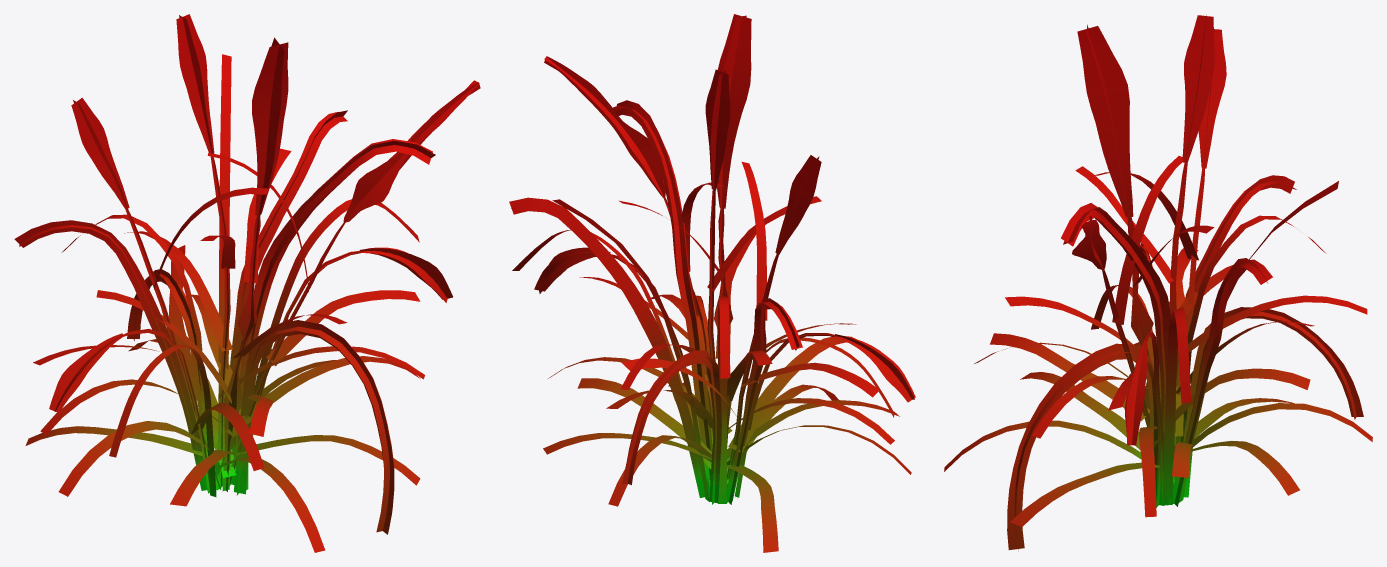
Rendered from slfpffjr_Var7_LOD0.fbx.
3 views of the same model, side by side, from view 1: azimuth 30°, elevation 25°; view 2: azimuth 150°, elevation 25°; view 3: azimuth 270°, elevation 25° (orthographic). The views are drawn at different scales.
Parts seen in each view (by area): view 1: _fb86_Var7_LOD0; view 2: _fb86_Var7_LOD0; view 3: _fb86_Var7_LOD0.
Part boxes in pixels (<box>): _fb86_Var7_LOD0: <box>14,14,480,552</box>; _fb86_Var7_LOD0: <box>509,14,915,552</box>; _fb86_Var7_LOD0: <box>944,15,1372,551</box>.
Bounding box in the file's own units: 43.41 × 48.83 × 38.72.
